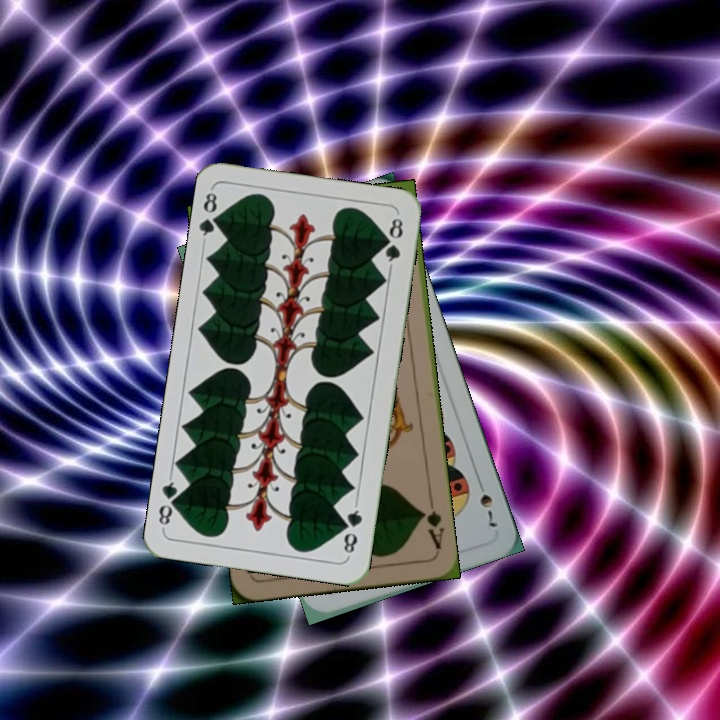G8: (196, 186, 226, 245), (339, 500, 365, 559)
GA: (417, 495, 446, 552)
S7: (473, 475, 501, 533)
